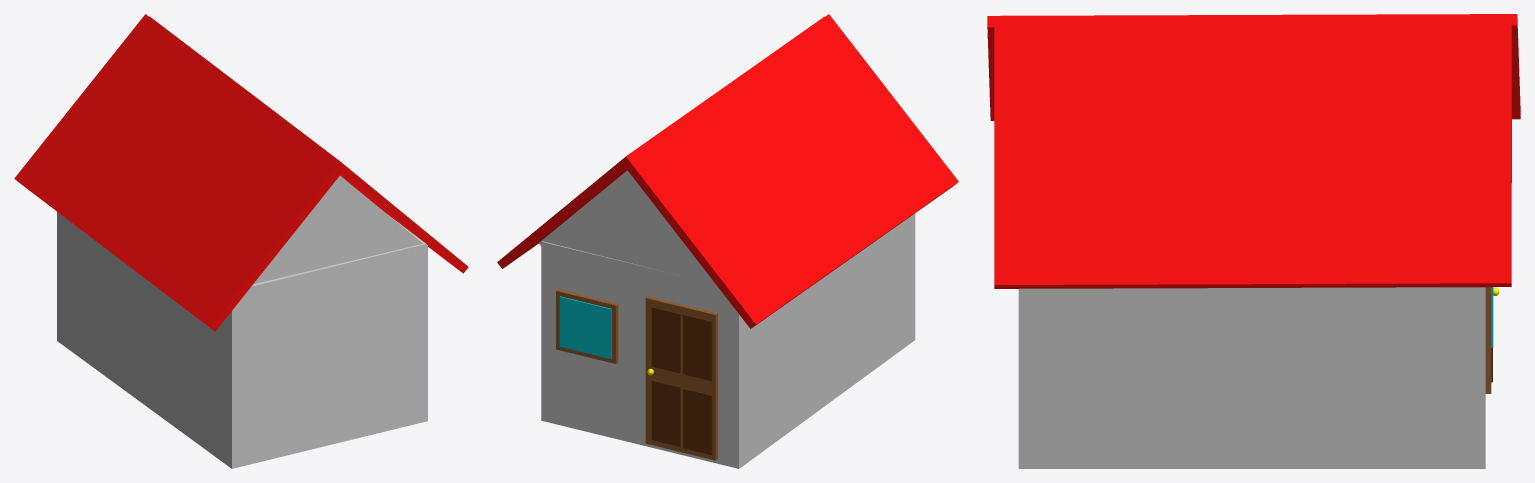
Rendered from LV1_House.fbx.
3 views of the same model, side by side, from view 1: azimuth 30°, elevation 25°; view 2: azimuth 150°, elevation 25°; view 3: azimuth 270°, elevation 25° (orthographic). The views are drawn at different scales.
Parts seen in each view (by area): view 1: Cube, Cube__3_, Cube__1_, Cube__2_; view 2: Cube__3_, Cube, Cube__1_, Cube__5_, Cube__6_, Cube__2_, Cube__7_, Cube__10_, Cube__8_, Cube__9_, Cube__4_; view 3: Cube__2_, Cube, Cube__3_.
Boxes of the visible parts, left/top/right/bottom form: Cube: left=57, top=212, right=427, bottom=468; Cube__3_: left=14, top=14, right=346, bottom=331; Cube__1_: left=253, top=176, right=422, bottom=284; Cube__2_: left=149, top=16, right=468, bottom=273; Cube__3_: left=621, top=14, right=958, bottom=328; Cube: left=541, top=213, right=915, bottom=468; Cube__1_: left=539, top=170, right=727, bottom=372; Cube__5_: left=645, top=296, right=717, bottom=460; Cube__6_: left=559, top=296, right=611, bottom=358; Cube__2_: left=497, top=16, right=824, bottom=268; Cube__7_: left=651, top=307, right=680, bottom=373; Cube__10_: left=683, top=388, right=712, bottom=454; Cube__8_: left=683, top=314, right=712, bottom=380; Cube__9_: left=651, top=380, right=680, bottom=446; Cube__4_: left=556, top=289, right=618, bottom=363; Cube__2_: left=994, top=16, right=1511, bottom=288; Cube: left=1018, top=287, right=1485, bottom=468; Cube__3_: left=987, top=14, right=1520, bottom=120.
Bounding box in the file's own units: 46.52 × 49.62 × 61.08.
